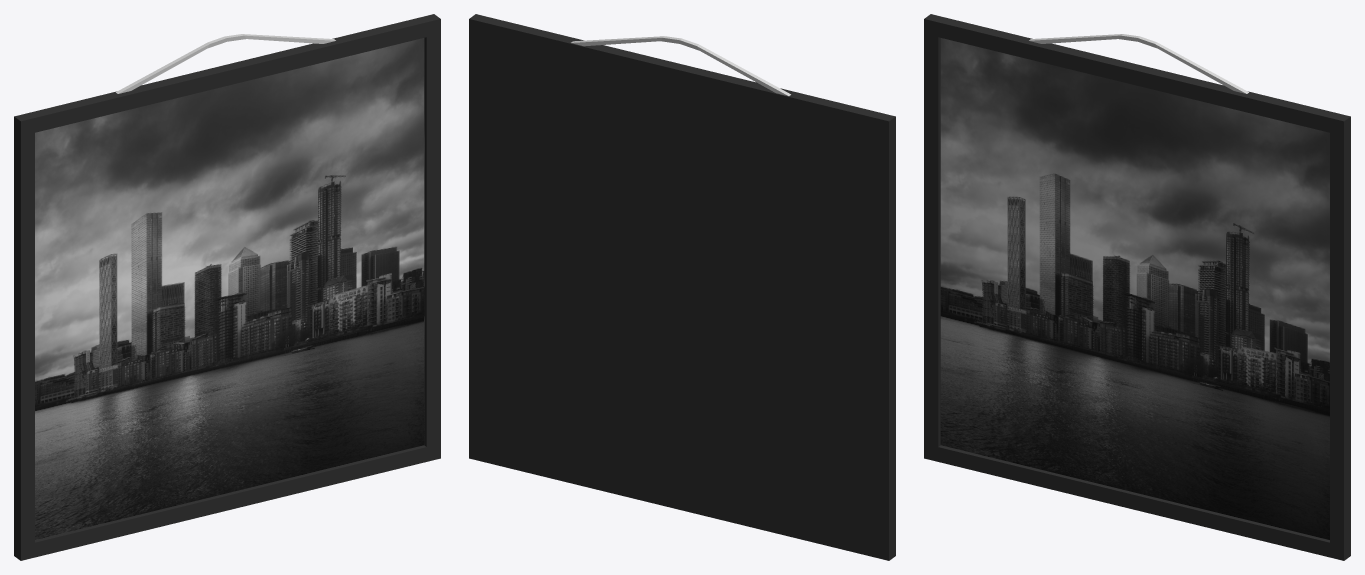
Rendered from Frame2.fbx.
3 renders of one model, left to right at view 1: azimuth 30°, elevation 25°; view 2: azimuth 150°, elevation 25°; view 3: azimuth 330°, elevation 25°, orthographic.
Visible parts, largest first — view 1: Frame2; view 2: Frame2; view 3: Frame2.
Part boxes in pixels (bbox=[...]): Frame2: bbox=[14, 14, 440, 560]; Frame2: bbox=[469, 14, 895, 560]; Frame2: bbox=[924, 14, 1350, 560].
Size of the model in its own units: 11.1 by 400 by 427.
Materials: 3 (1 with a texture image).
